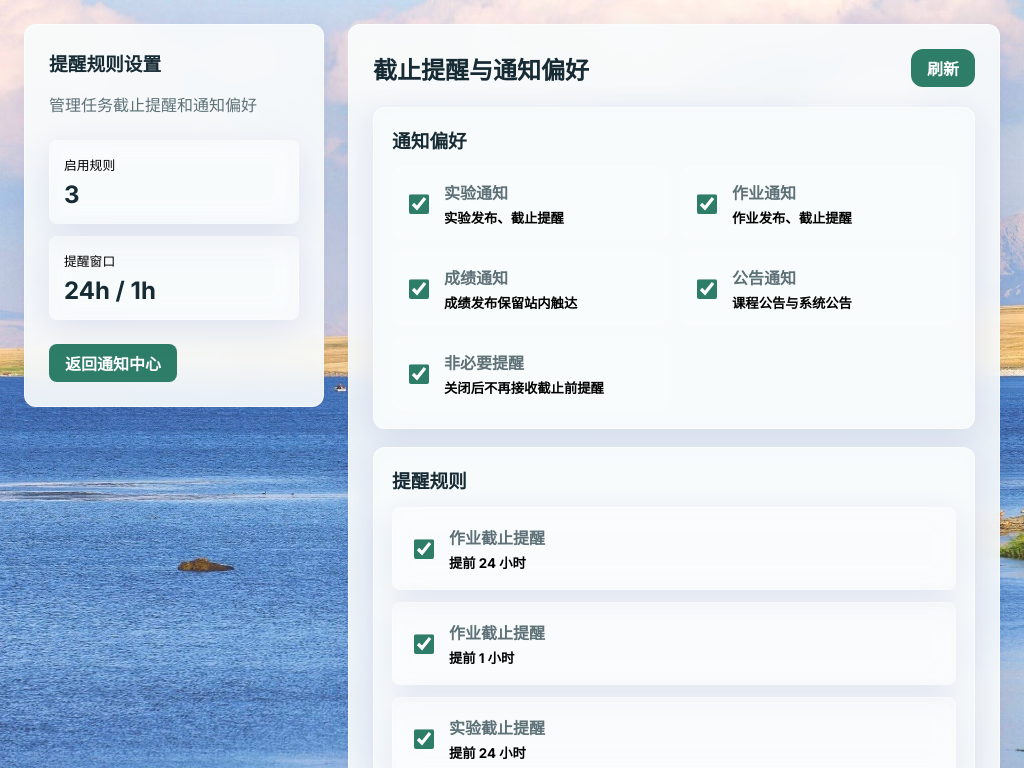
Test case: ReminderRuleSettingsView › renders reminder rules and saves notification preferences
Click the checkbox with test id "setting-enableHomework" at x=707, y=204, box [697,194,717,214]
(page scrolled)
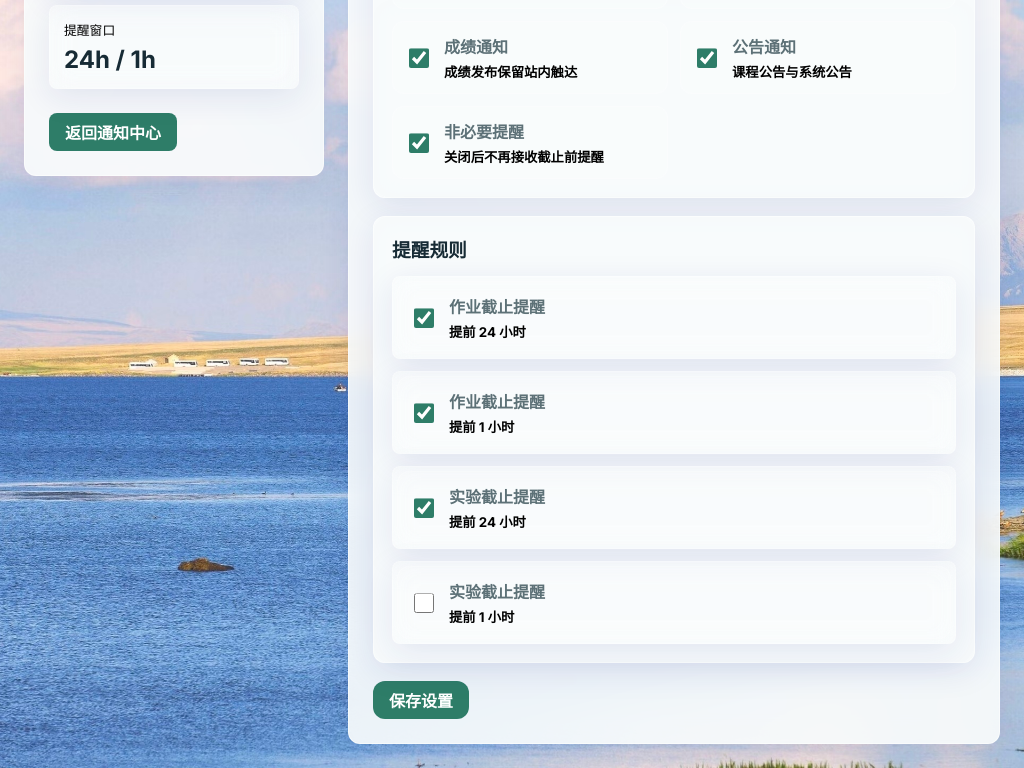
Click the button with test id "save-reminder-rules" at x=421, y=700, box [373,681,469,719]
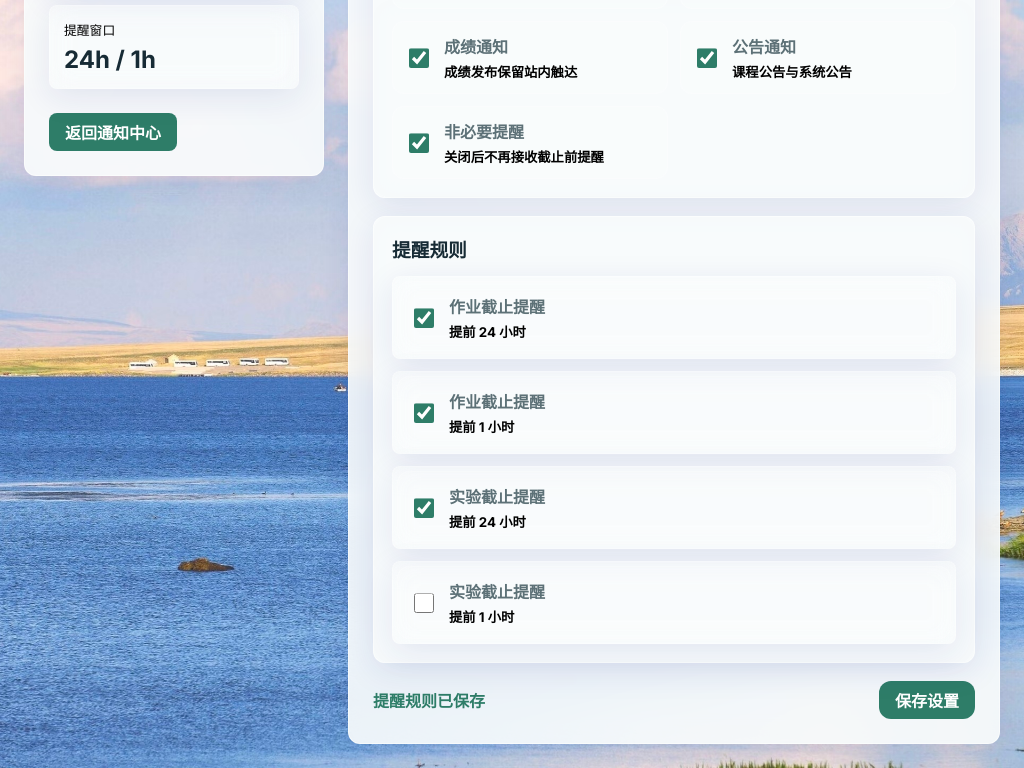
Expected: the text "提醒规则已保存" is shown, [373,688,485,712]
